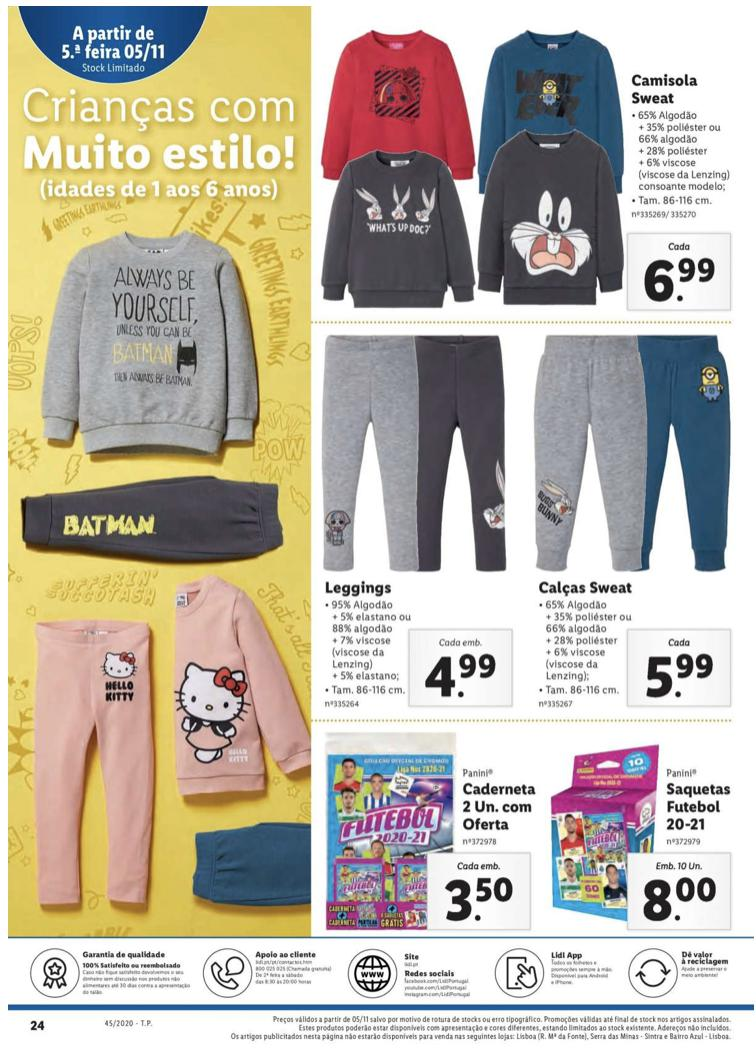name: (458, 779, 540, 835), (659, 775, 732, 832), (627, 73, 700, 105), (537, 577, 637, 596), (323, 577, 393, 597)
price: (426, 648, 505, 702), (640, 649, 716, 705), (639, 254, 719, 306), (440, 873, 516, 923), (641, 877, 720, 925)
product: (326, 22, 742, 315), (529, 332, 745, 713), (311, 327, 520, 717), (323, 734, 541, 934), (548, 728, 739, 936)
